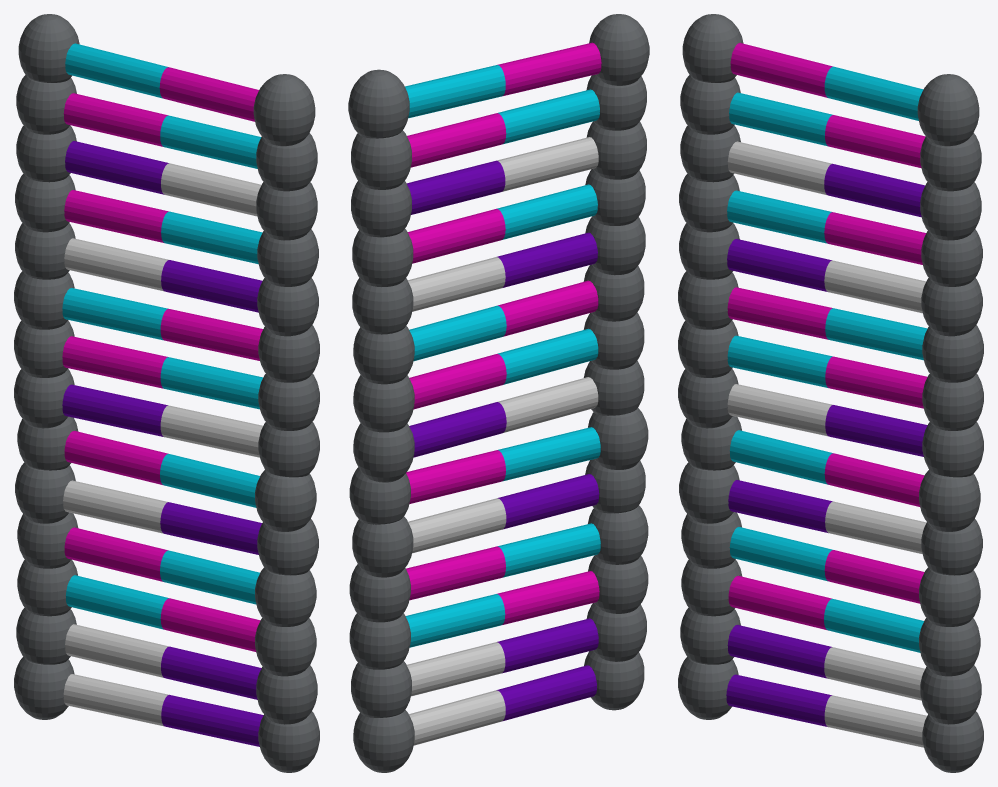
The model's file is DNAflatmutation1.glb.
The picture shows the model from 3 angles, left to right: view 1: azimuth 90°, elevation 25°; view 2: azimuth 150°, elevation 25°; view 3: azimuth 270°, elevation 25°; orthographic projection.
Visible parts, largest first — view 1: Mesh_Mesh_head_geo.001_lambert2SG.001; view 2: Mesh_Mesh_head_geo.001_lambert2SG.001; view 3: Mesh_Mesh_head_geo.001_lambert2SG.001.
Part boxes in pixels (x1,y1,x2,y2): Mesh_Mesh_head_geo.001_lambert2SG.001: [14, 14, 319, 772]; Mesh_Mesh_head_geo.001_lambert2SG.001: [348, 14, 649, 772]; Mesh_Mesh_head_geo.001_lambert2SG.001: [678, 14, 983, 772].
Bounding box in the file's own units: 45.86 × 173 × 68.85.
